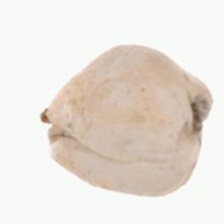L3: (39, 108, 63, 156)
L4: (42, 45, 213, 196)
